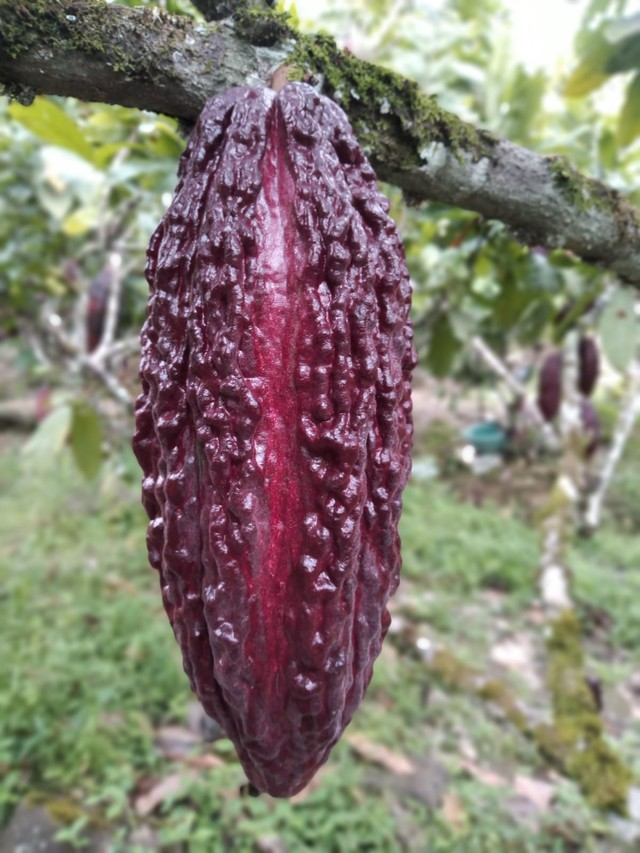Health: (116, 30, 435, 810)
